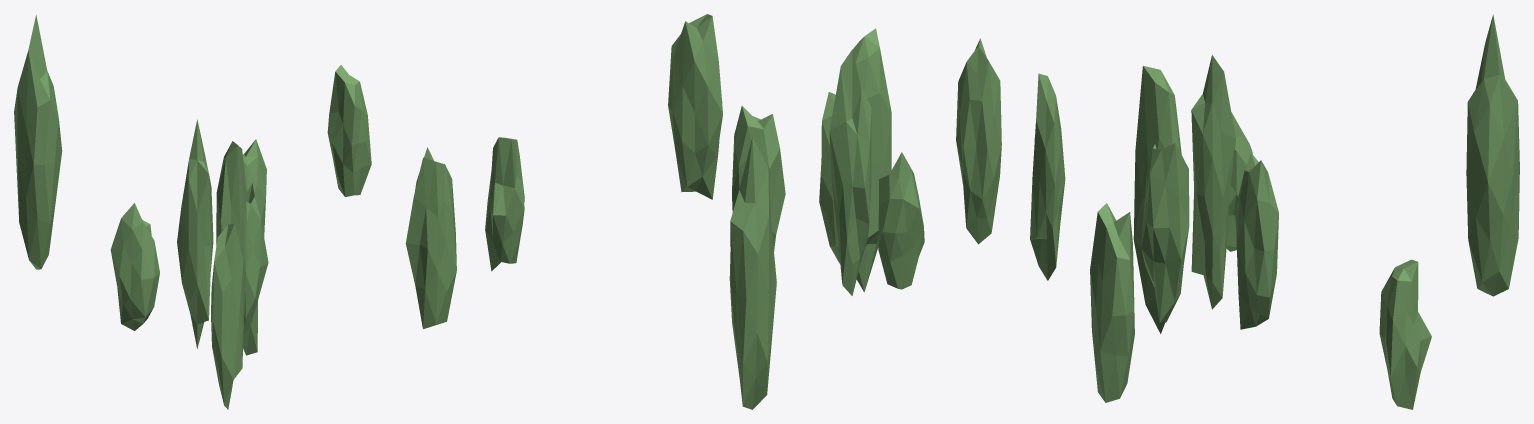
The model's file is grass_tuft_02.glb.
3 views of the same model, side by side, from view 1: azimuth 30°, elevation 25°; view 2: azimuth 150°, elevation 25°; view 3: azimuth 270°, elevation 25° (orthographic). The views are drawn at different scales.
Visible parts, largest first — view 1: grass_tuft_02_7, grass_tuft_02_2, grass_tuft_02_1, grass_tuft_02_5, grass_tuft_02_8, grass_tuft_02_6, grass_tuft_02_4, grass_tuft_02_0, grass_tuft_02_3; view 2: grass_tuft_02_7, grass_tuft_02_2, grass_tuft_02_1, grass_tuft_02_5, grass_tuft_02_8, grass_tuft_02_0, grass_tuft_02_6, grass_tuft_02_3, grass_tuft_02_4; view 3: grass_tuft_02_7, grass_tuft_02_1, grass_tuft_02_2, grass_tuft_02_4, grass_tuft_02_3, grass_tuft_02_5, grass_tuft_02_6, grass_tuft_02_0, grass_tuft_02_8.
Boxes of the visible parts, x1=… form: grass_tuft_02_7: x1=14, y1=15, x2=62, y2=269; grass_tuft_02_2: x1=405, y1=147, x2=456, y2=329; grass_tuft_02_1: x1=177, y1=119, x2=213, y2=348; grass_tuft_02_5: x1=211, y1=223, x2=245, y2=409; grass_tuft_02_8: x1=110, y1=203, x2=159, y2=330; grass_tuft_02_6: x1=327, y1=65, x2=371, y2=196; grass_tuft_02_4: x1=243, y1=183, x2=268, y2=355; grass_tuft_02_0: x1=216, y1=141, x2=247, y2=270; grass_tuft_02_3: x1=243, y1=139, x2=266, y2=236; grass_tuft_02_7: x1=729, y1=136, x2=776, y2=409; grass_tuft_02_2: x1=668, y1=14, x2=722, y2=199; grass_tuft_02_1: x1=829, y1=49, x2=871, y2=295; grass_tuft_02_5: x1=956, y1=38, x2=1001, y2=244; grass_tuft_02_8: x1=878, y1=152, x2=924, y2=289; grass_tuft_02_0: x1=852, y1=28, x2=891, y2=292; grass_tuft_02_6: x1=485, y1=137, x2=524, y2=271; grass_tuft_02_3: x1=732, y1=106, x2=785, y2=251; grass_tuft_02_4: x1=819, y1=92, x2=840, y2=263; grass_tuft_02_7: x1=1466, y1=14, x2=1519, y2=296; grass_tuft_02_1: x1=1191, y1=55, x2=1235, y2=309; grass_tuft_02_2: x1=1090, y1=203, x2=1134, y2=402; grass_tuft_02_4: x1=1141, y1=143, x2=1189, y2=322; grass_tuft_02_3: x1=1235, y1=153, x2=1278, y2=329; grass_tuft_02_5: x1=1030, y1=73, x2=1065, y2=280; grass_tuft_02_6: x1=1379, y1=259, x2=1431, y2=409; grass_tuft_02_0: x1=1133, y1=65, x2=1181, y2=333; grass_tuft_02_8: x1=1226, y1=112, x2=1252, y2=251.
Bounding box in the file's own units: 0.6887 × 0.534 × 0.8018.
